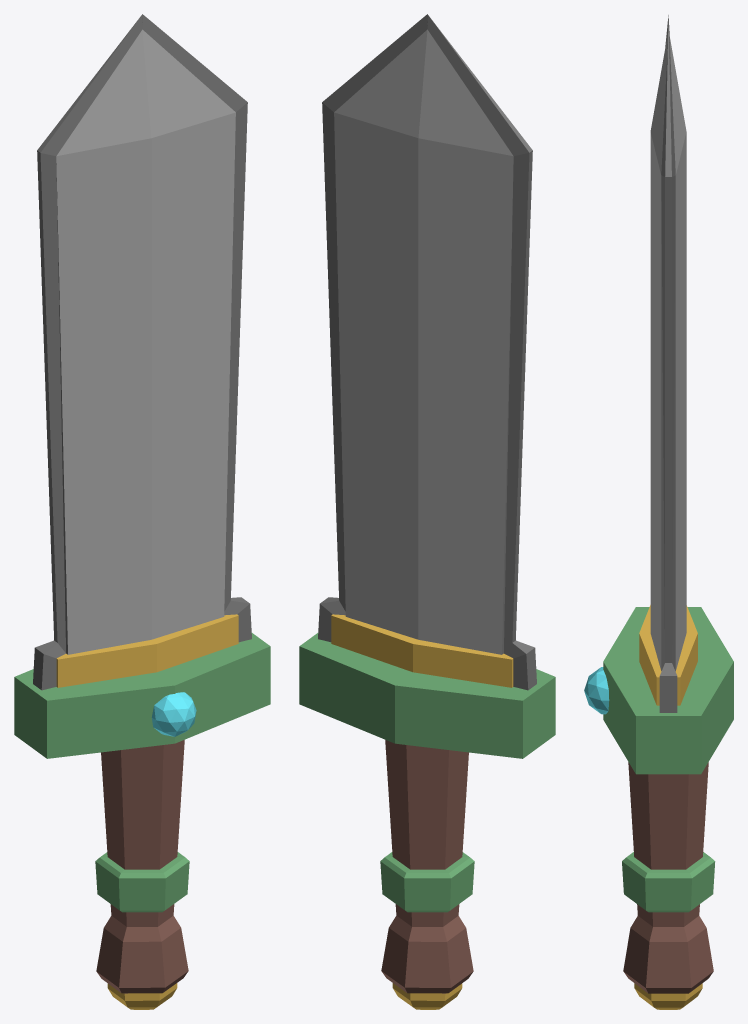
File: Practice_Sword_colored_V4.fbx
The picture shows the model from 3 angles, left to right: view 1: azimuth 30°, elevation 25°; view 2: azimuth 150°, elevation 25°; view 3: azimuth 270°, elevation 25°; orthographic projection.
Parts seen in each view (by area): view 1: Cylinder.001; view 2: Cylinder.001; view 3: Cylinder.001.
Part boxes in pixels (x1,y1,x2,y2): Cylinder.001: (14, 14, 270, 1009); Cylinder.001: (299, 14, 555, 1009); Cylinder.001: (584, 15, 733, 1009).
Bounding box in the file's own units: 395 × 1675 × 229.
